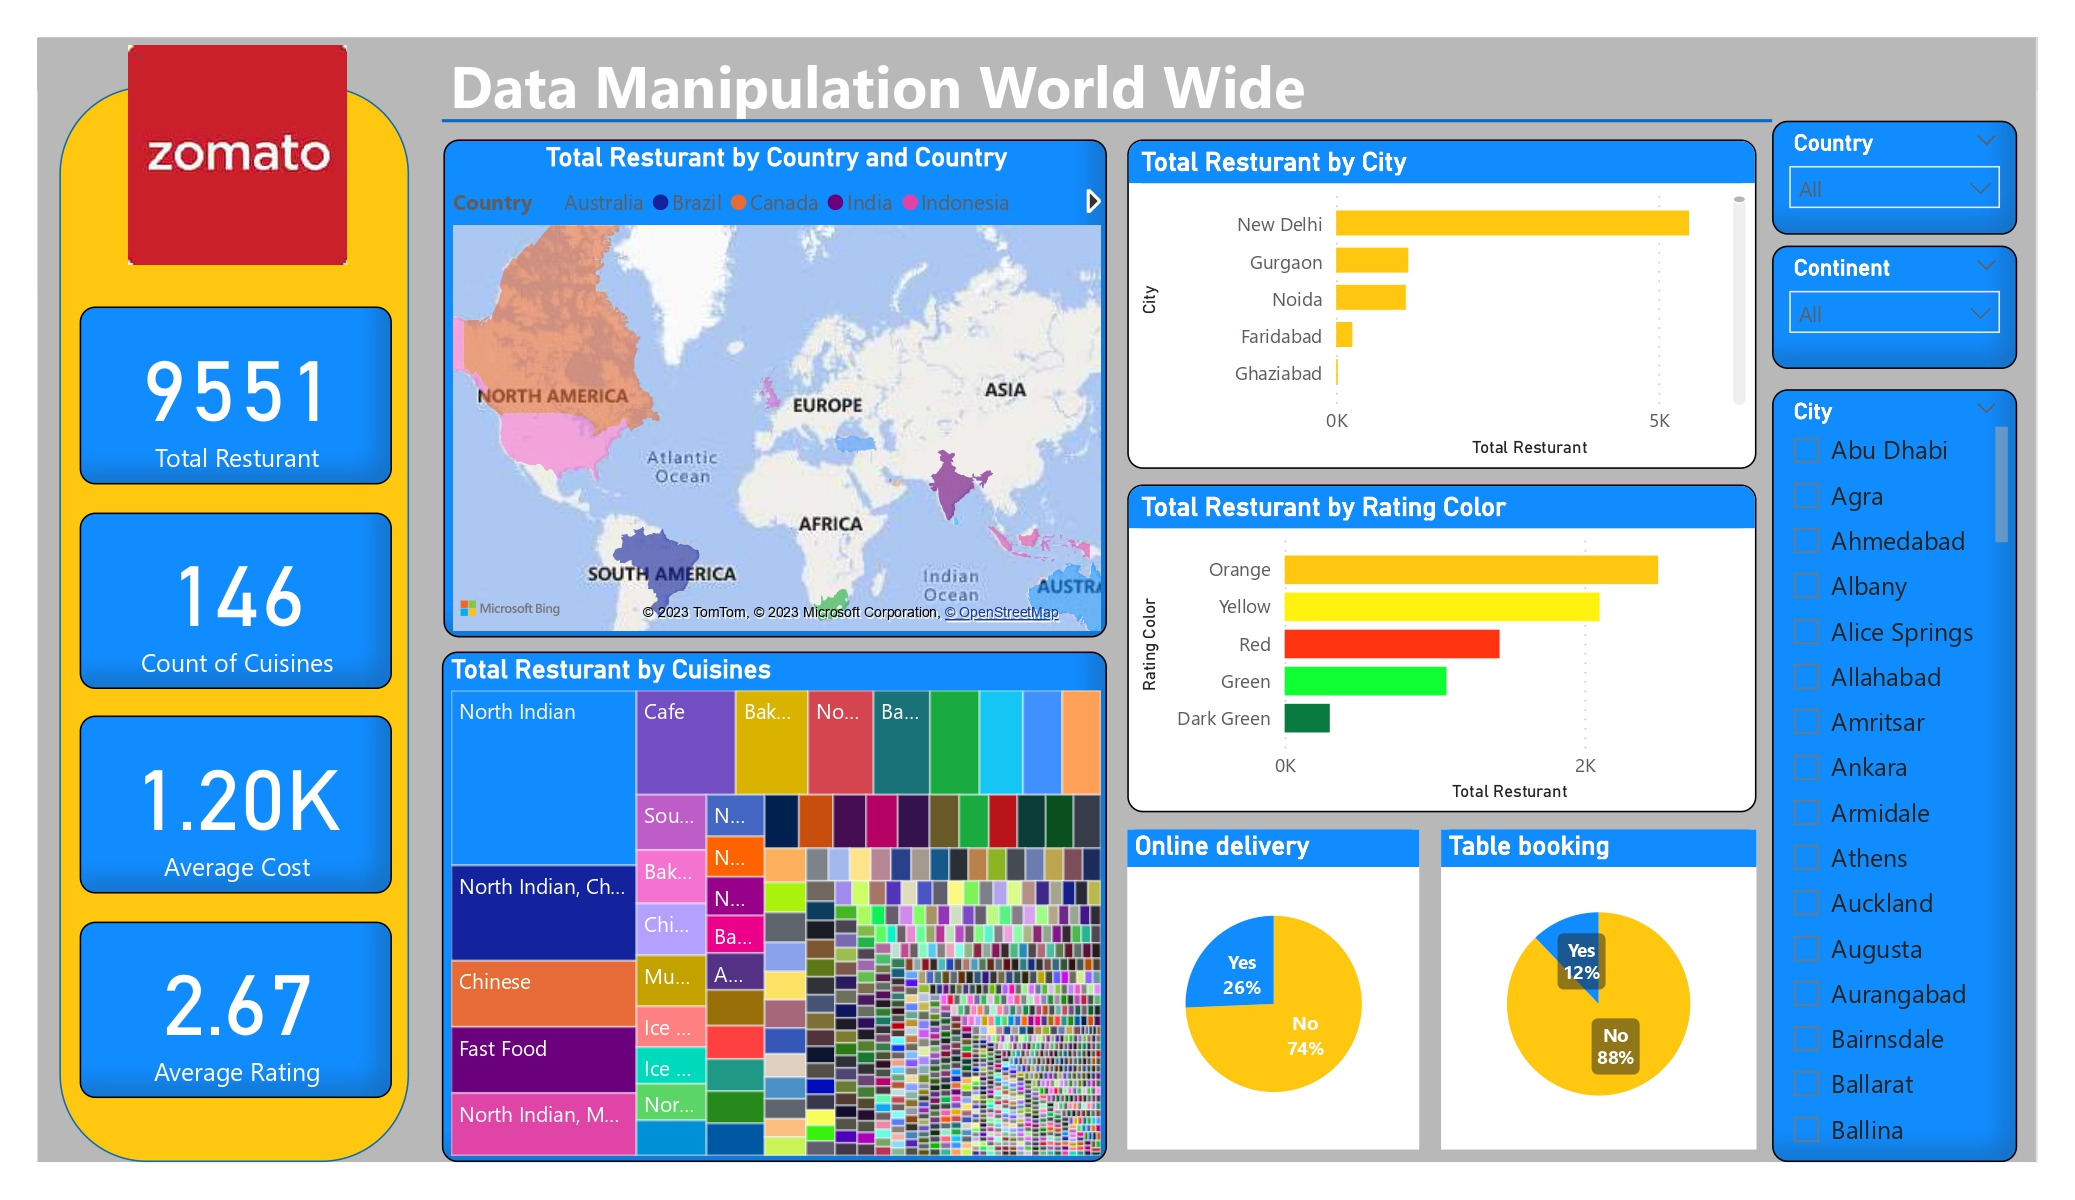

What the dashboard file says about the page in this screenshot:
{"tool":"powerbi","page":{"name":"Page 1","canvas":[1280,720],"ordinal":0},"visuals":[{"type":"shape","box":[14.5,31.4,223.1,688.6],"z":0},{"type":"card","fields":{"Values":["Zomato Global.Total Resturant"]},"box":[26.5,172.5,200.2,113.4],"z":1000},{"type":"card","fields":{"Values":["Fact Table.Average Cost"]},"box":[26.5,434.2,200.2,113.4],"z":2000},{"type":"card","fields":{"Values":["Count(Cuisines.Cuisines)"]},"box":[26.5,303.9,200.2,113.4],"z":3000},{"type":"card","fields":{"Values":["Fact Table.Average Rating"]},"box":[26.5,565.6,200.2,113.4],"z":4000},{"type":"treemap","fields":{"Values":["Zomato Global.Total Resturant"],"Group":["Zomato Global.Cuisines"]},"box":[259.3,393.2,425.7,326.8],"z":5000},{"type":"slicer","fields":{"Values":["Country-Code.Country"]},"box":[1111.4,52.7,156.9,73.1],"z":6000},{"type":"filledMap","fields":{"Category":["Country-Code.Country"],"Series":["Country-Code.Country"]},"box":[259.9,64.7,425.2,319.8],"z":7000},{"type":"slicer","fields":{"Values":["Country-Code.Continent"]},"box":[1111.4,132.9,156.9,79],"z":8000},{"type":"slicer","fields":{"Values":["Zomato Global.City"]},"box":[1111.4,225.2,156.9,494.6],"z":9000},{"type":"textbox","box":[258.7,0,653.9,64.7],"z":10000},{"type":"image","box":[15.7,0,223.1,149.5],"z":11000},{"type":"shape","box":[258.7,32.3,852.7,41.9],"z":12000},{"type":"clusteredBarChart","fields":{"Y":["Zomato Global.Total Resturant"],"Category":["Zomato Global.City"]},"box":[697.7,65.4,403.6,210.3],"z":13000},{"type":"clusteredBarChart","fields":{"Category":["Fact Table.Rating Color"],"Y":["Zomato Global.Total Resturant"]},"box":[697.7,285.6,403.6,210.3],"z":13001},{"type":"pieChart","title":"  Online delivery","fields":{"Category":["Fact Table.Has Online delivery"],"Y":["Zomato Global.Total Resturant"]},"box":[697.7,507.3,187.6,204.6],"z":13002},{"type":"pieChart","title":" Table booking","fields":{"Category":["Fact Table.Has Table booking"],"Y":["Zomato Global.Total Resturant"]},"box":[899.5,507.3,201.8,204.6],"z":13003}]}

Visuals, with their boxes in screenshot pixels (x1, y1, x2, y2):
shape: 60,87,409,1162
card - Zomato Global.Total Resturant: 79,307,392,484
card - Fact Table.Average Cost: 79,716,392,893
card - Count(Cuisines.Cuisines): 79,512,392,690
card - Fact Table.Average Rating: 79,921,392,1098
treemap - Zomato Global.Total Resturant x Zomato Global.Cuisines: 443,652,1108,1162
slicer - Country-Code.Country: 1774,120,2019,234
filledMap - Country-Code.Country x Country-Code.Country: 444,139,1108,638
slicer - Country-Code.Continent: 1774,245,2019,369
slicer - Zomato Global.City: 1774,389,2019,1162
textbox: 442,38,1463,139
image: 62,38,411,271
shape: 442,88,1774,153
clusteredBarChart - Zomato Global.Total Resturant x Zomato Global.City: 1128,140,1758,468
clusteredBarChart - Fact Table.Rating Color x Zomato Global.Total Resturant: 1128,484,1758,812
"  Online delivery" pieChart: 1128,830,1421,1150
" Table booking" pieChart: 1443,830,1758,1150
